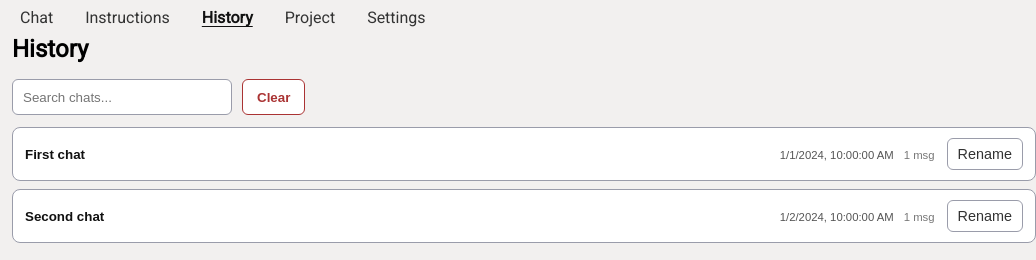
Test case: HistoryPage accessibility › search input is labelled and announces results
Step 1. Type "first" into the search field named "search history" → (122, 97), box top-left (12, 79), bottom-right (232, 115)
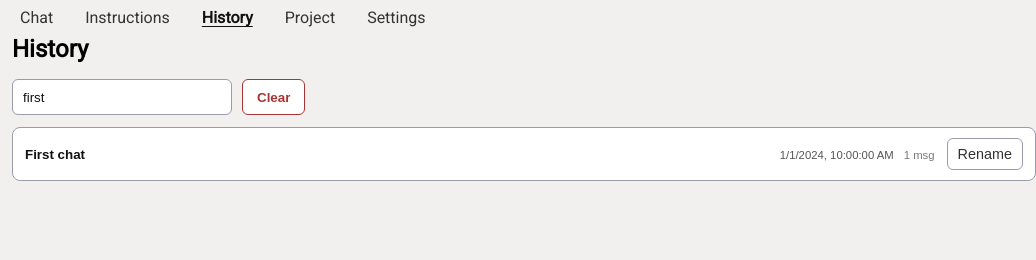
Expected: the text "First chat" is shown, top-left (25, 146), bottom-right (85, 162)
Expected: the button "Second chat" is gone
